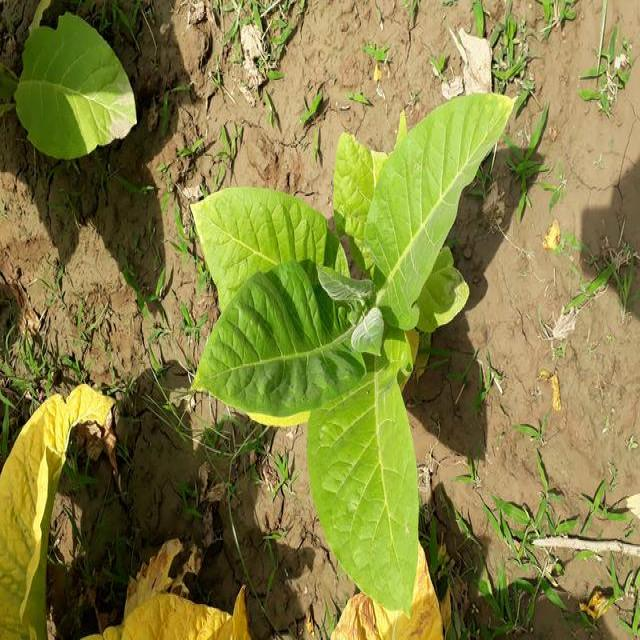crop: (198, 107, 504, 612), (0, 396, 99, 640), (0, 0, 137, 148), (318, 544, 446, 640), (126, 573, 272, 640)
